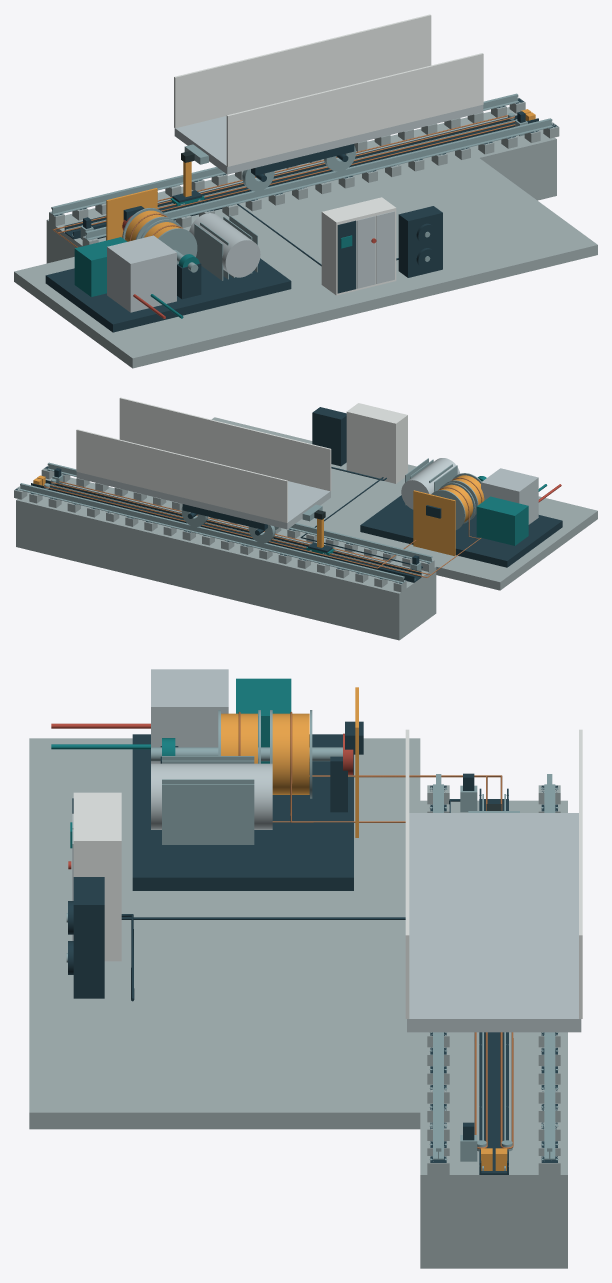
File: launcher-booster.glb
The picture shows the model from 3 angles, top to bottom: view 1: azimuth 30°, elevation 25°; view 2: azimuth 150°, elevation 25°; view 3: azimuth 270°, elevation 25°; orthographic projection. The views are drawn at different scales.
Parts seen in each view (by area): view 1: plant-floor/extension, vehicle-tail/side/-1.2, vehicle-tail/side/1.15, station-deck/envelope, launch-powerpack/skid, launch-powerpack/gearbox, vehicle-tail/underframe, launch-control/power-control-cabinet, launch-control/cooler, launch-powerpack/grid-motor, running-rail/right/web, launch-powerpack/hydraulic-motor-bank (+21 smaller); view 2: station-deck/envelope, vehicle-tail/side/1.15, vehicle-tail/side/-1.2, plant-floor/extension, launch-control/power-control-cabinet, launch-powerpack/skid, vehicle-tail/underframe, capstan/front-guard, launch-powerpack/hydraulic-motor-bank, launch-powerpack/gearbox, launch-control/cooler, shuttle-guide/wall/-1 (+18 smaller); view 3: plant-floor/extension, vehicle-tail/underframe, station-deck/envelope, launch-powerpack/skid, launch-powerpack/gearbox, launch-control/power-control-cabinet, grid-motor/cooling-fin/2.25, launch-control/cooler, launch-powerpack/grid-motor, shuttle-guide/floor, capstan/drum/1, launch-powerpack/hydraulic-motor-bank (+12 smaller).
Boxes of the visible parts, box(x1,y1,x2,y2) form: plant-floor/extension: box(14, 158, 597, 368); vehicle-tail/side/-1.2: box(226, 53, 483, 166); vehicle-tail/side/1.15: box(174, 14, 431, 128); station-deck/envelope: box(46, 107, 556, 263); launch-powerpack/skid: box(45, 258, 291, 332); launch-powerpack/gearbox: box(107, 235, 176, 312); vehicle-tail/underframe: box(174, 104, 483, 174); launch-control/power-control-cabinet: box(321, 197, 396, 295); launch-control/cooler: box(398, 206, 442, 277); launch-powerpack/grid-motor: box(189, 213, 260, 277); running-rail/right/web: box(86, 121, 551, 238); launch-powerpack/hydraulic-motor-bank: box(74, 237, 127, 296); station-deck/envelope: box(16, 477, 436, 640); vehicle-tail/side/1.15: box(76, 429, 287, 522); vehicle-tail/side/-1.2: box(119, 397, 331, 491); plant-floor/extension: box(128, 417, 597, 590); launch-control/power-control-cabinet: box(346, 403, 407, 483); launch-powerpack/skid: box(360, 495, 562, 567); vehicle-tail/underframe: box(76, 472, 330, 529); capstan/front-guard: box(413, 490, 455, 556); launch-powerpack/hydraulic-motor-bank: box(476, 496, 528, 545); launch-powerpack/gearbox: box(481, 468, 538, 524); launch-control/cooler: box(312, 407, 346, 466); shuttle-guide/wall/-1: box(45, 480, 421, 576); plant-floor/extension: box(29, 738, 420, 1129); vehicle-tail/underframe: box(407, 813, 581, 1032); station-deck/envelope: box(420, 800, 567, 1268); launch-powerpack/skid: box(132, 734, 353, 890); launch-powerpack/gearbox: box(151, 669, 228, 763); launch-control/power-control-cabinet: box(73, 792, 121, 961); grid-motor/cooling-fin/2.25: box(162, 784, 254, 844); launch-control/cooler: box(73, 877, 104, 998); launch-powerpack/grid-motor: box(151, 763, 272, 829); shuttle-guide/floor: box(479, 799, 508, 1174); capstan/drum/1: box(272, 713, 309, 794); launch-powerpack/hydraulic-motor-bank: box(236, 678, 291, 763).
Size of the model in its own units: 14.12 by 4.05 by 7.5.
